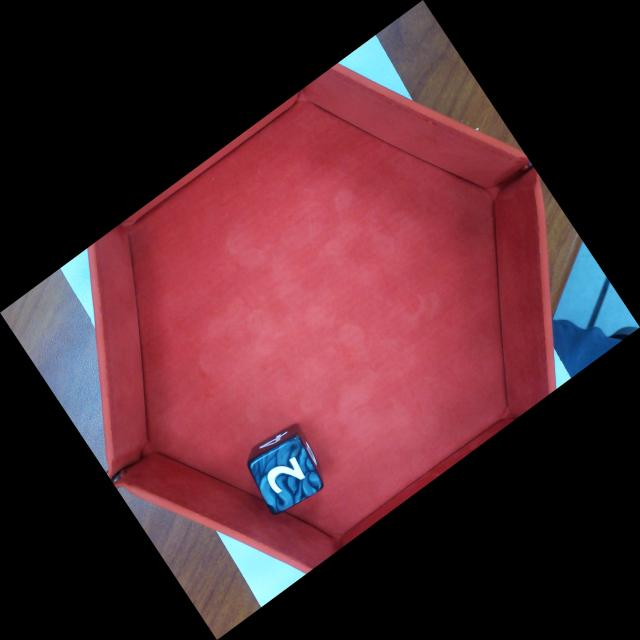dice: (252, 430, 327, 514)
